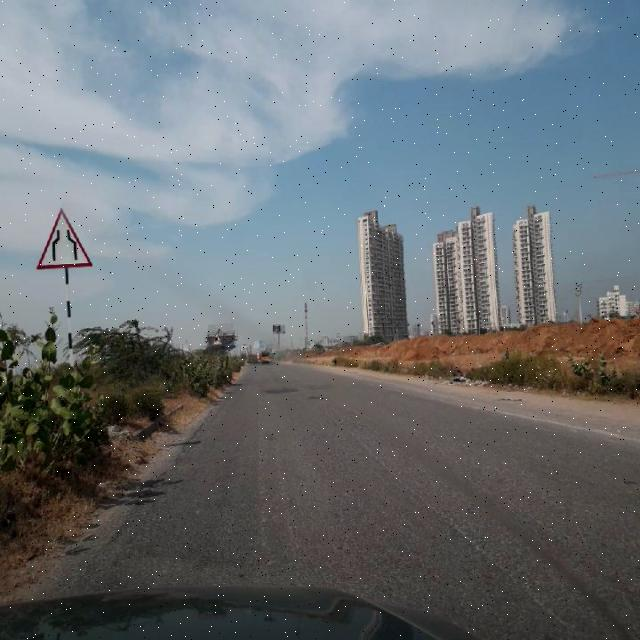D00: (348, 423, 570, 627)
